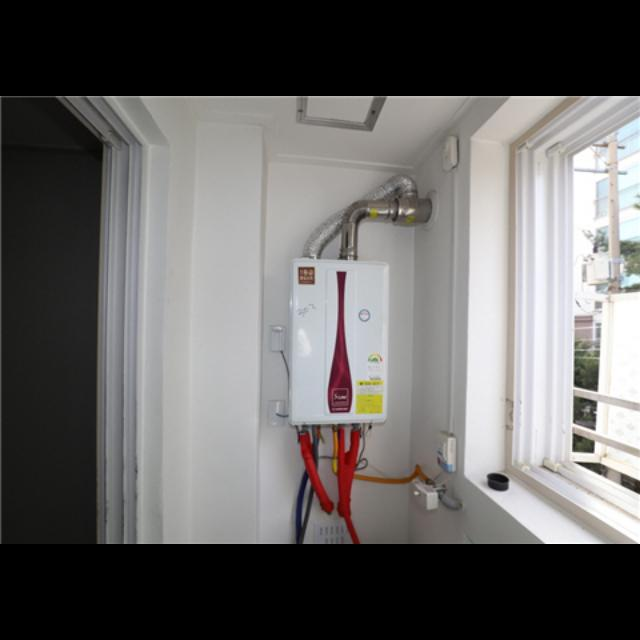Boiler: (278, 235, 412, 468)
